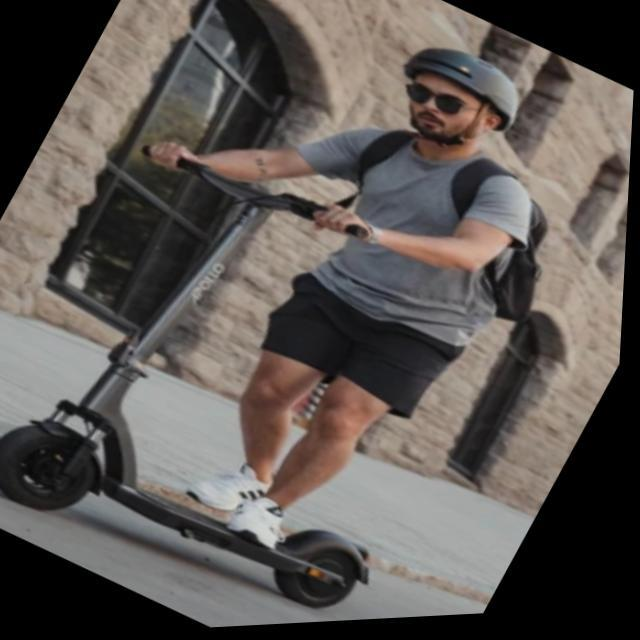Helmet: (386, 34, 525, 156)
